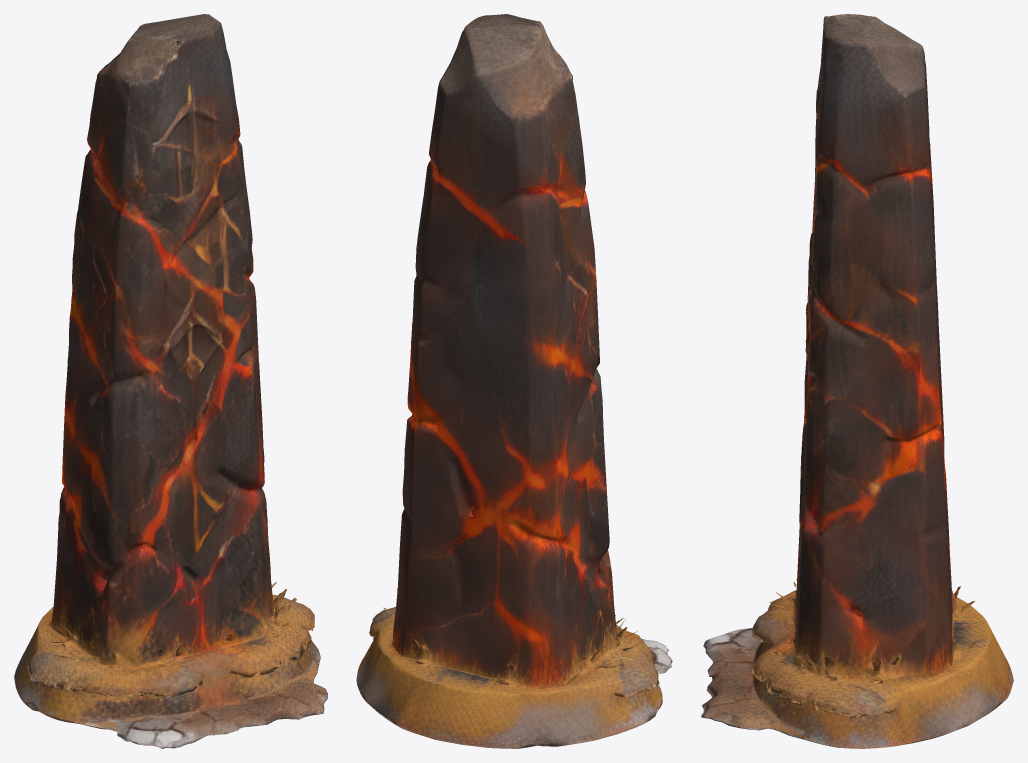
3 renders of one model, left to right at view 1: azimuth 30°, elevation 25°; view 2: azimuth 150°, elevation 25°; view 3: azimuth 270°, elevation 25°, orthographic.
Visible parts, largest first — view 1: A_Body; view 2: A_Body; view 3: A_Body.
Boxes of the visible parts, box(x1,y1,x2,y2) form: A_Body: box(14, 14, 327, 748); A_Body: box(356, 14, 672, 748); A_Body: box(701, 14, 1013, 748).
Size of the model in its own units: 1.22 by 2.7 by 1.16.
1 material, 1 textured.
